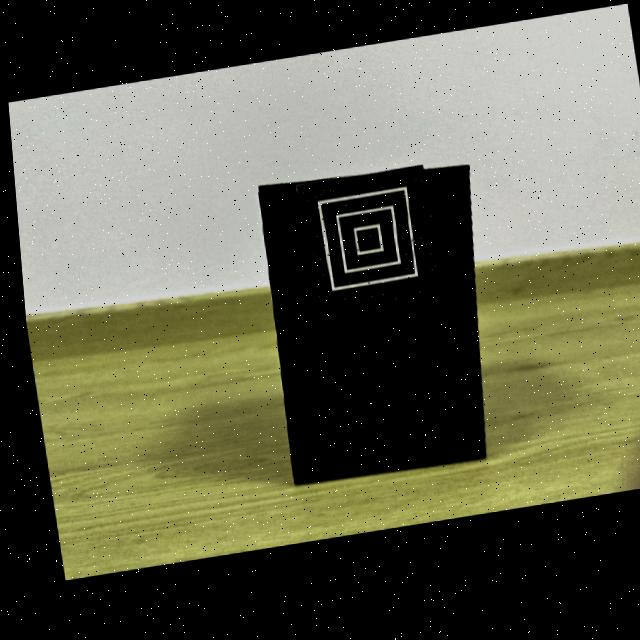BULLSEYE: (292, 172, 434, 318)
